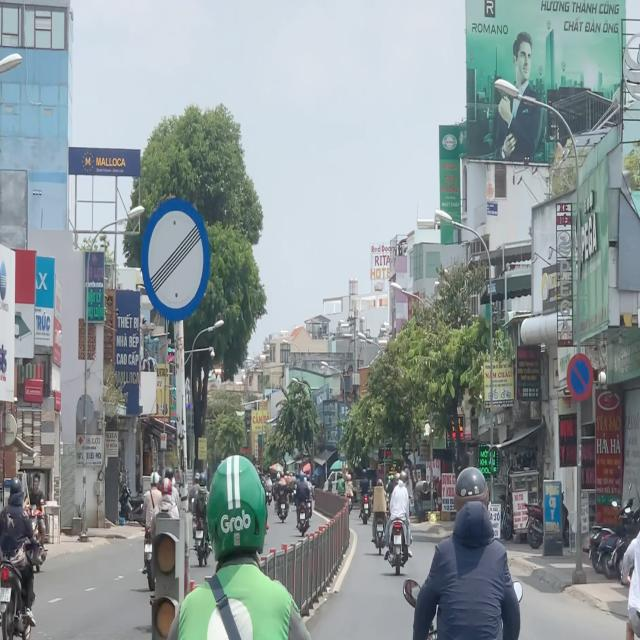Cam do: (566, 354, 594, 403)
Het tat ca lenh cam: (141, 194, 212, 321)
